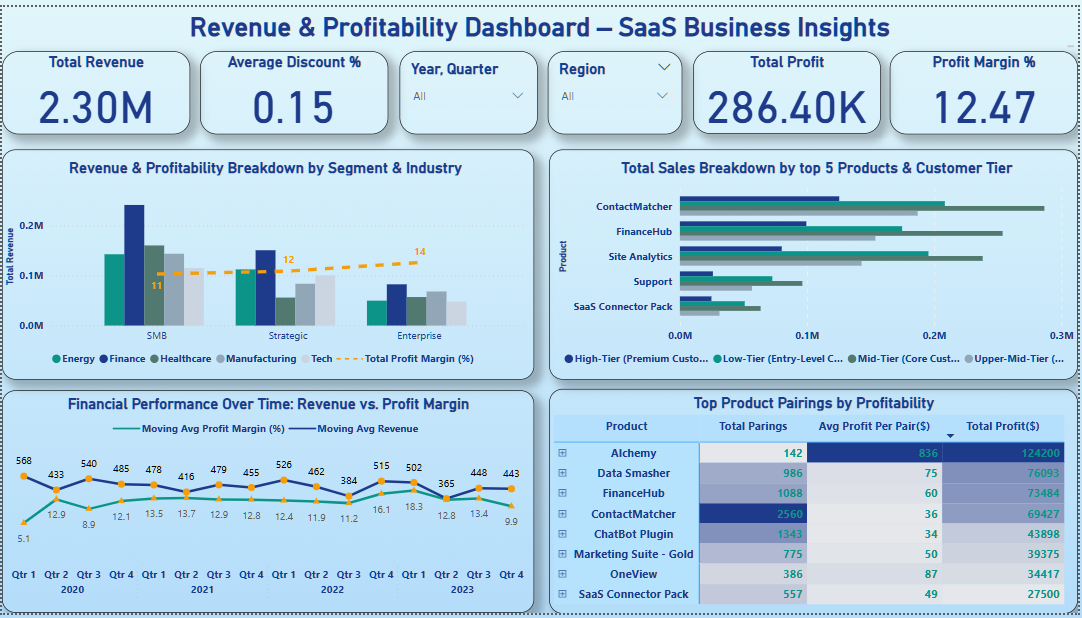

The dashboard page shown, as its layout file describes it:
{"tool":"powerbi","page":{"name":"Page 8","canvas":[1280,720],"ordinal":0},"visuals":[{"type":"card","title":"Total Revenue","fields":{"Values":["project_1 customer_sales_analysis.Total Revenue"]},"box":[0,52.8,223.6,98.6],"z":0},{"type":"card","title":"Profit Margin %","fields":{"Values":["project_1 customer_sales_analysis.Total Profit Margin (%)"]},"box":[1056.4,52.8,223.6,98.6],"z":1000},{"type":"card","title":"Total Profit","fields":{"Values":["Sum(project_1 customer_sales_analysis.total_profit)"]},"box":[821.5,52.3,223.1,98.5],"z":2000},{"type":"card","title":"Average Discount %","fields":{"Values":["Avg(project_1 product_sales_analysis.avg_discount)"]},"box":[236.1,52.8,223.6,98.6],"z":3000},{"type":"lineClusteredColumnComboChart","title":"Revenue & Profitability Breakdown by Segment & Industry","fields":{"Category":["project_1 customer_sales_analysis.Segment"],"Y":["project_1 customer_sales_analysis.Total Revenue"],"Series":["project_1 customer_sales_analysis.Industry"],"Y2":["project_1 customer_sales_analysis.Total Profit Margin (%)"]},"box":[0,169.9,632.9,274],"z":4000},{"type":"clusteredBarChart","title":"Total Sales Breakdown by top 5 Products & Customer Tier","fields":{"Category":["project_1 product_sales_analysis.Product"],"Series":["project_1 customer_sales_analysis.Customer Revenue Tier"],"Y":["Sum(project_1 product_sales_analysis.total_sales)"]},"box":[650.7,169.9,628.8,274],"z":5000},{"type":"slicer","fields":{"Values":["project_1 customer_sales_analysis.Order_Date.Variation.Date Hierarchy.Year","project_1 customer_sales_analysis.Order_Date.Variation.Date Hierarchy.Quarter"]},"box":[472.2,52.8,163.9,98.6],"z":6000},{"type":"slicer","fields":{"Values":["project_1 customer_sales_analysis.Region"]},"box":[648.6,52.8,159.7,98.6],"z":7000},{"type":"textbox","title":"Revenue & Profitability Dashboard – SaaS Business Insights","box":[0,0,1280,52.7],"z":8000},{"type":"lineChart","title":"Financial Performance Over Time: Revenue vs. Profit Margin","fields":{"Category":["project_1 customer_sales_analysis.Order_Date.Variation.Date Hierarchy.Year","project_1 customer_sales_analysis.Order_Date.Variation.Date Hierarchy.Quarter"],"Y":["project_1 product_sales_analysis.Moving Avg Profit Margin (%)"],"Y2":["project_1 customer_sales_analysis.Moving Avg Revenue"]},"box":[0,455.3,632.9,264.5],"z":9000},{"type":"pivotTable","title":"Top Product Pairings by Profitability","fields":{"Rows":["project_1 product_pairing_view (2).Product_A","project_1 product_pairing_view (2).Product_B"],"Values":["Sum(project_1 product_pairing_view (2).Pair_Count)","Avg(project_1 product_pairing_view (2).Avg_Profit_Per_Pair)","Sum(project_1 product_pairing_view (2).Total_Profit)"]},"box":[650.7,453.4,628.8,267.1],"z":10000}]}

Visuals, with their boxes in screenshot pixels (x1, y1, x2, y2), scaled from the page's 1280x720 canvas onto the 1082x618 screenshot:
"Total Revenue" card: select_region(0, 45, 189, 130)
"Profit Margin %" card: select_region(893, 45, 1081, 130)
"Total Profit" card: select_region(694, 45, 883, 129)
"Average Discount %" card: select_region(200, 45, 389, 130)
"Revenue & Profitability Breakdown by Segment & Industry" lineClusteredColumnComboChart: select_region(0, 146, 535, 381)
"Total Sales Breakdown by top 5 Products & Customer Tier" clusteredBarChart: select_region(550, 146, 1081, 381)
slicer - project_1 customer_sales_analysis.Order_Date.Variation.Date Hierarchy.Year x project_1 customer_sales_analysis.Order_Date.Variation.Date Hierarchy.Quarter: select_region(399, 45, 538, 130)
slicer - project_1 customer_sales_analysis.Region: select_region(548, 45, 683, 130)
"Revenue & Profitability Dashboard – SaaS Business Insights" textbox: select_region(0, 0, 1081, 45)
"Financial Performance Over Time: Revenue vs. Profit Margin" lineChart: select_region(0, 391, 535, 617)
"Top Product Pairings by Profitability" pivotTable: select_region(550, 389, 1081, 617)
